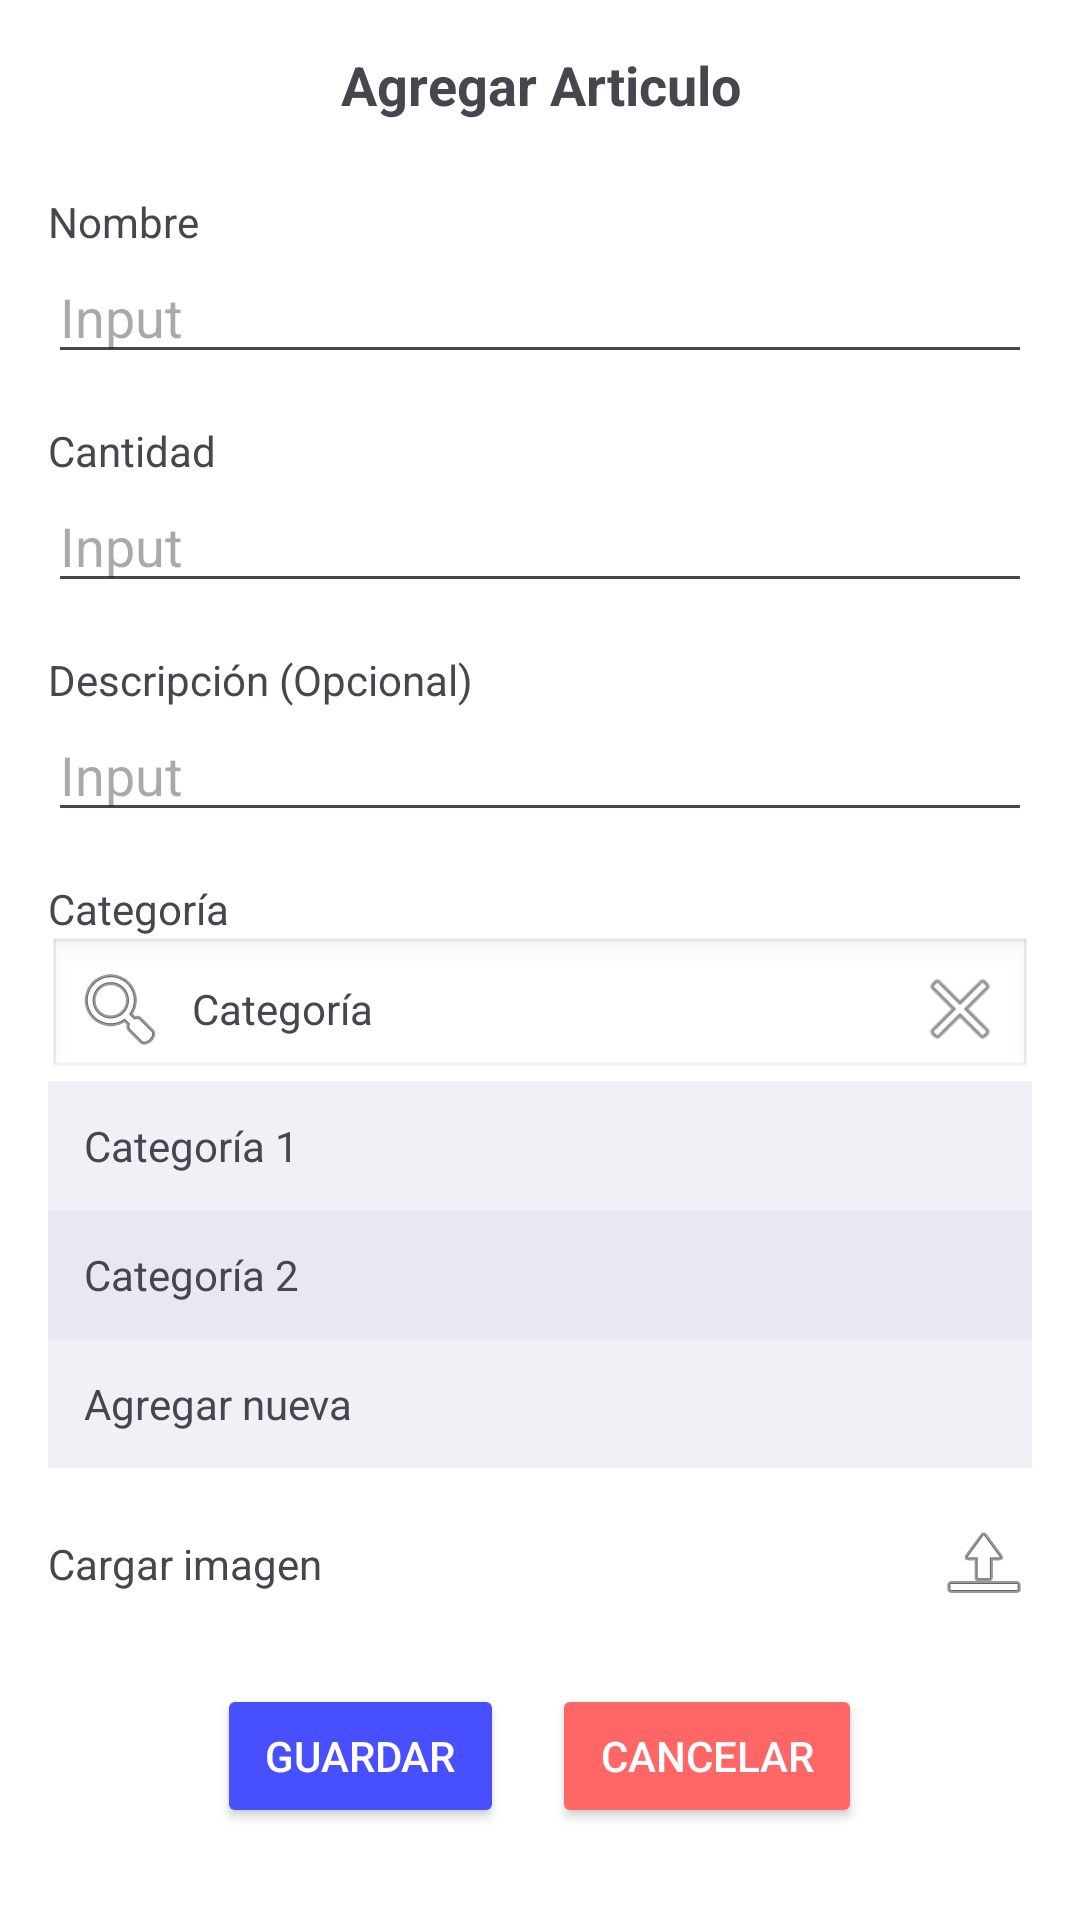

Where to tap for icons on this 1080x1920 app screen, as [x,y]:
close clear cancel: [960,1009]
search: [120,1009]
upload: [984,1562]
